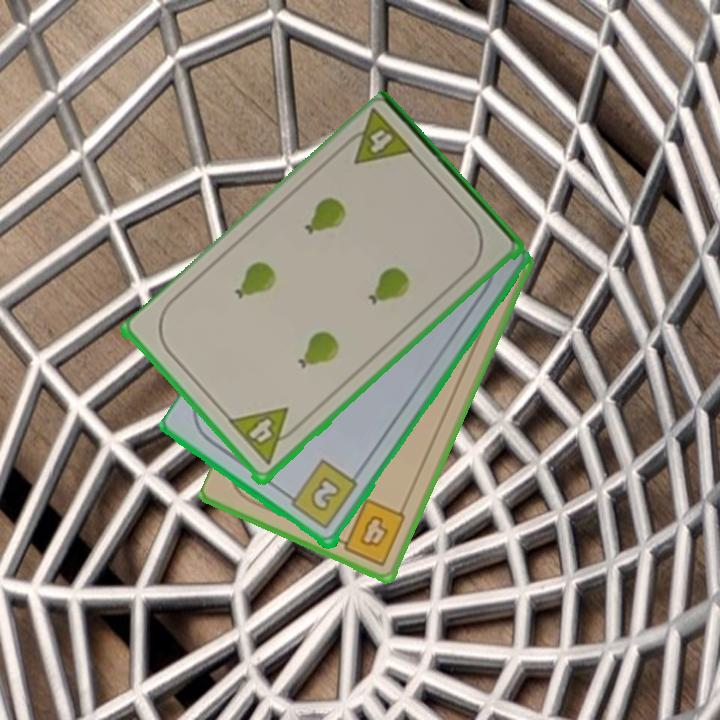2b: (281, 457, 361, 533)
4b: (331, 495, 409, 569)
4p: (336, 106, 418, 169), (226, 404, 304, 469)
